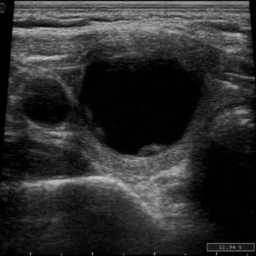mass: (81, 44, 208, 159)
